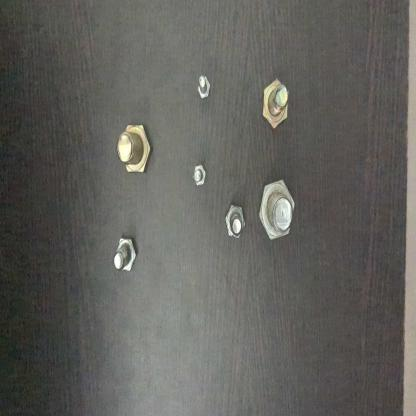Bolts: (255, 174, 298, 247), (114, 115, 155, 184), (258, 75, 292, 140), (111, 229, 142, 288), (224, 201, 244, 246), (192, 67, 212, 110), (190, 155, 208, 198)
